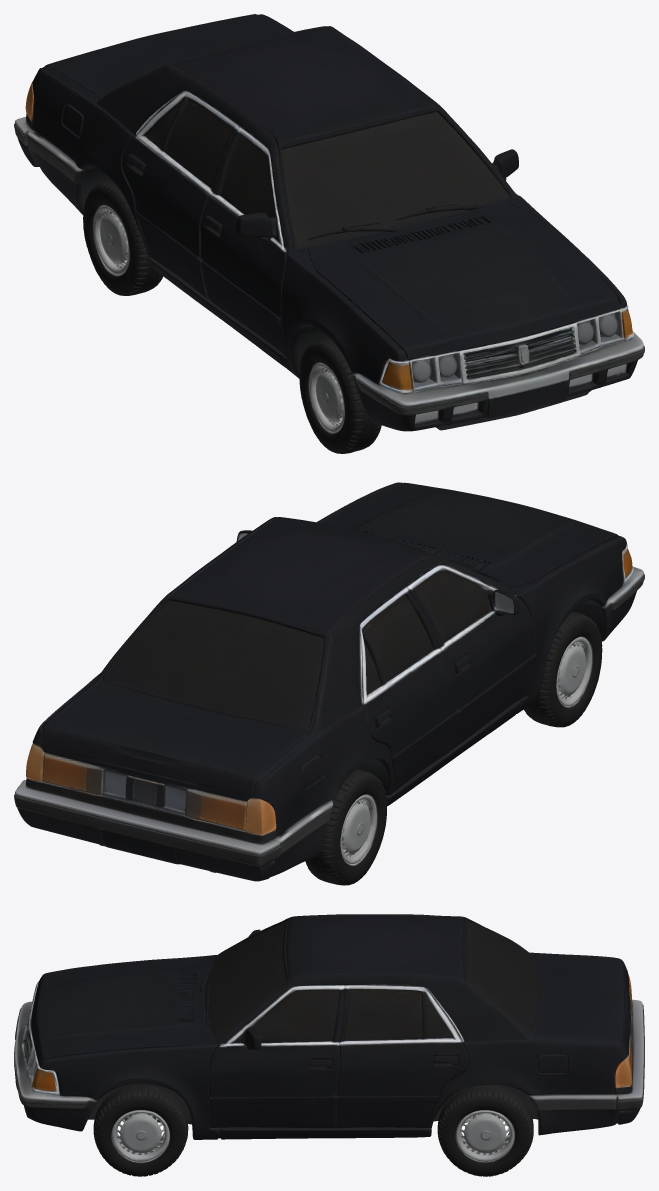
3 renders of one model, top to bottom at view 1: azimuth 30°, elevation 25°; view 2: azimuth 150°, elevation 25°; view 3: azimuth 270°, elevation 25°, orthographic. The views are drawn at different scales.
Parts seen in each view (by area): view 1: model; view 2: model; view 3: model.
Part boxes in pixels (x1,y1,x2,y2): model: (14, 14, 644, 453); model: (14, 482, 644, 885); model: (14, 914, 644, 1176).
Bounding box in the file's own units: 0.7739 × 0.6283 × 1.89.
1 material, 1 textured.
